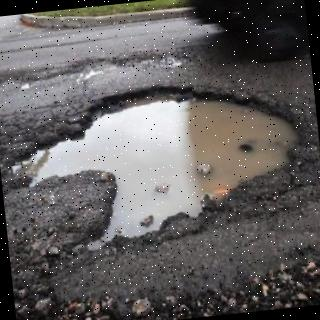pothole: (10, 87, 299, 242)
